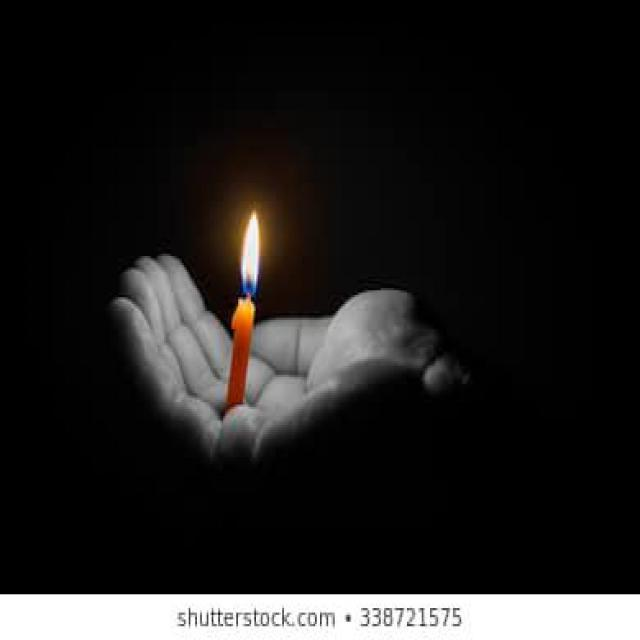Fire: (242, 213, 260, 304)
